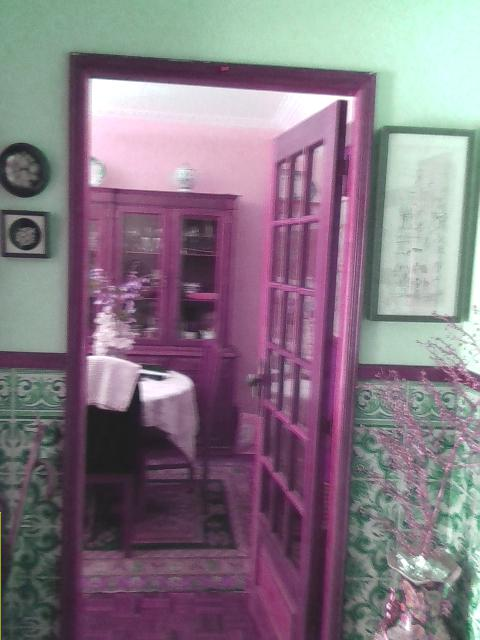open_door: (65, 52, 374, 639)
